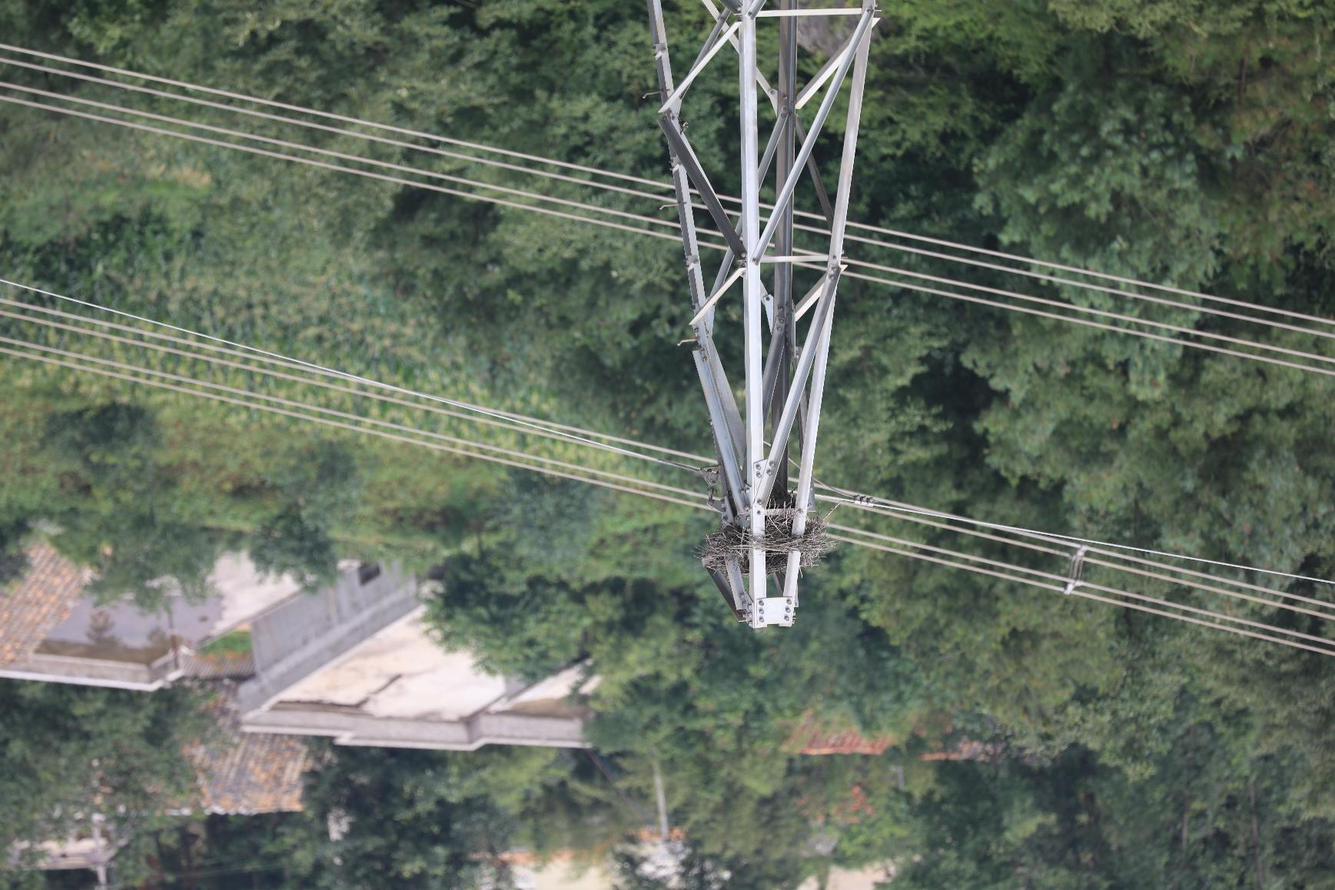nest: (696, 504, 832, 580)
